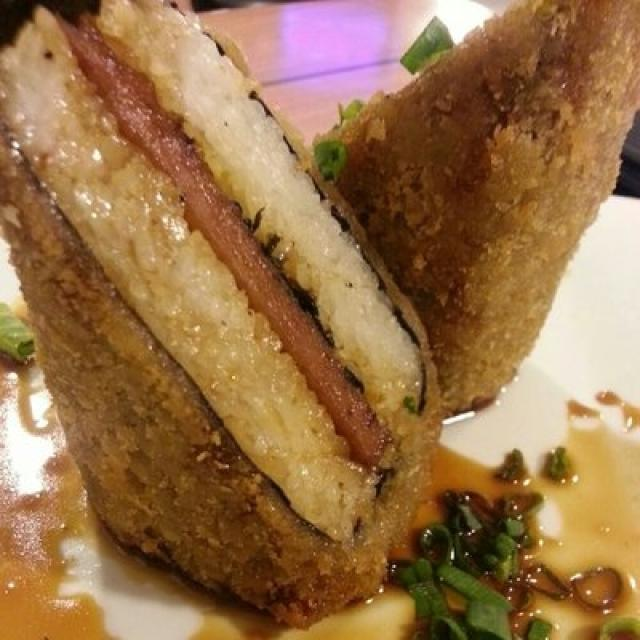寿司卷物: (3, 13, 613, 592)
